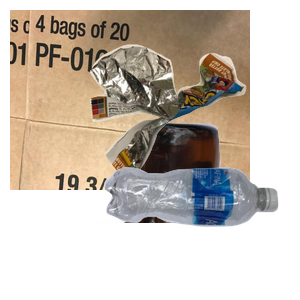cardboard: (10, 10, 250, 190)
glass: (29, 120, 242, 300)
plastic: (102, 165, 300, 300)
trash: (88, 42, 300, 219)
